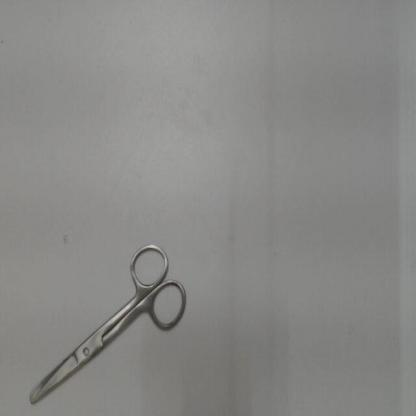Dressing Scissors: (22, 232, 198, 413)
